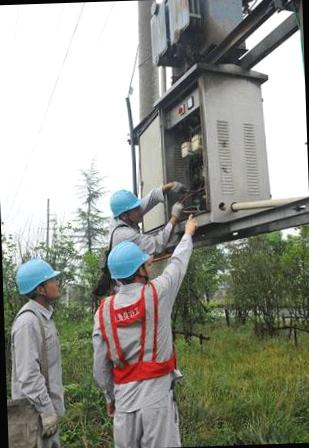person: (93, 239, 194, 448), (2, 257, 70, 448), (102, 184, 184, 245)
